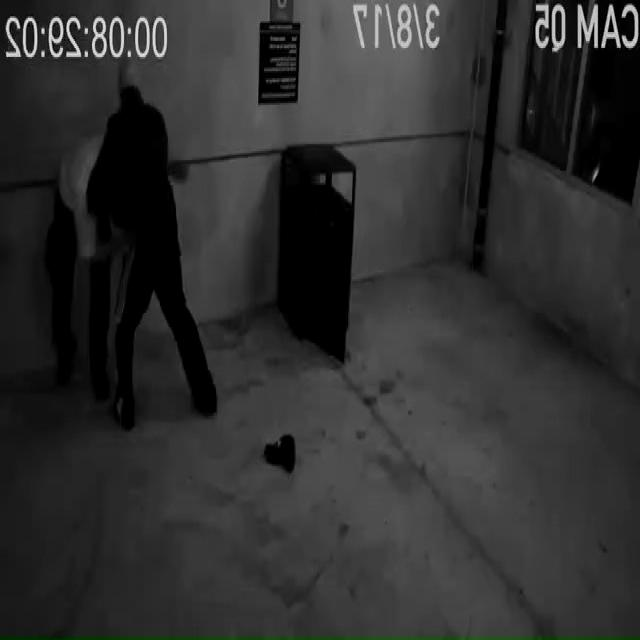fight: (47, 60, 219, 433)
